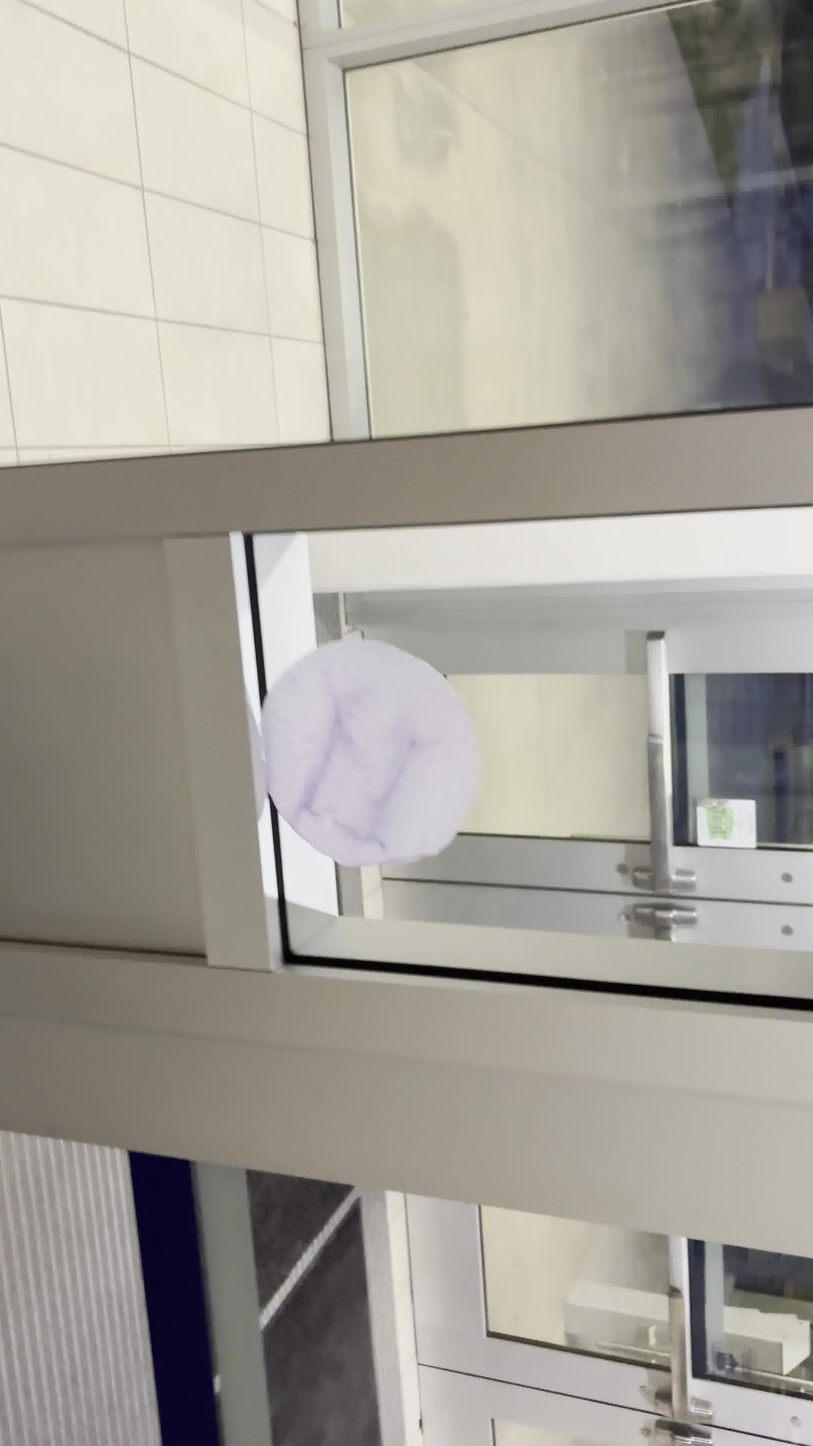Target: (237, 628, 489, 878)
